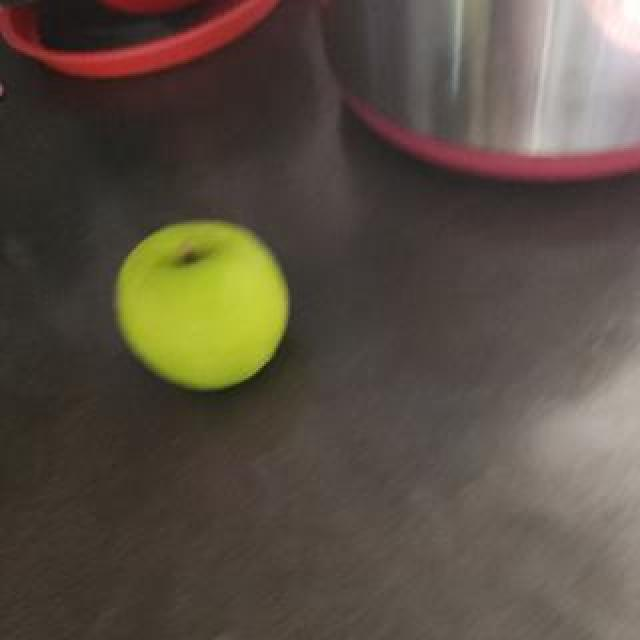Fresh Apple: (100, 224, 287, 380)
